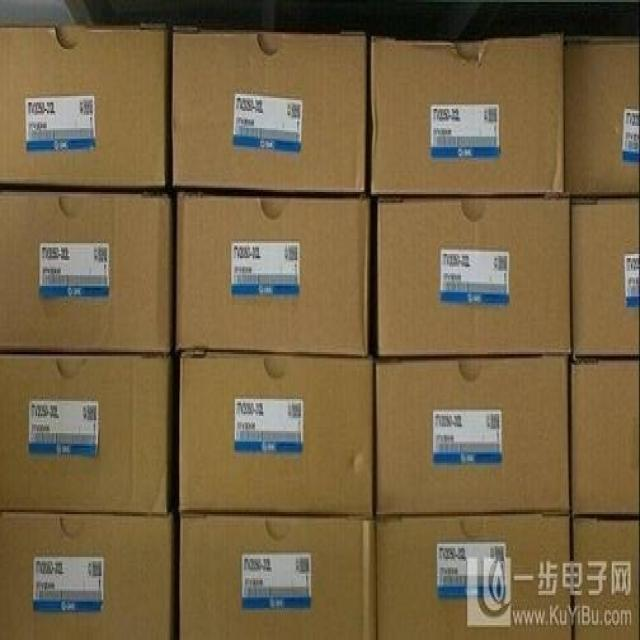box: (179, 352, 376, 521), (175, 188, 370, 356), (171, 28, 367, 194), (376, 354, 570, 521), (371, 32, 564, 194), (376, 196, 573, 354), (0, 183, 174, 352), (0, 350, 175, 514), (0, 23, 173, 183), (180, 514, 377, 638), (377, 514, 573, 638), (0, 510, 173, 640), (563, 32, 640, 194), (571, 192, 640, 356), (573, 356, 640, 514), (571, 512, 640, 640)
